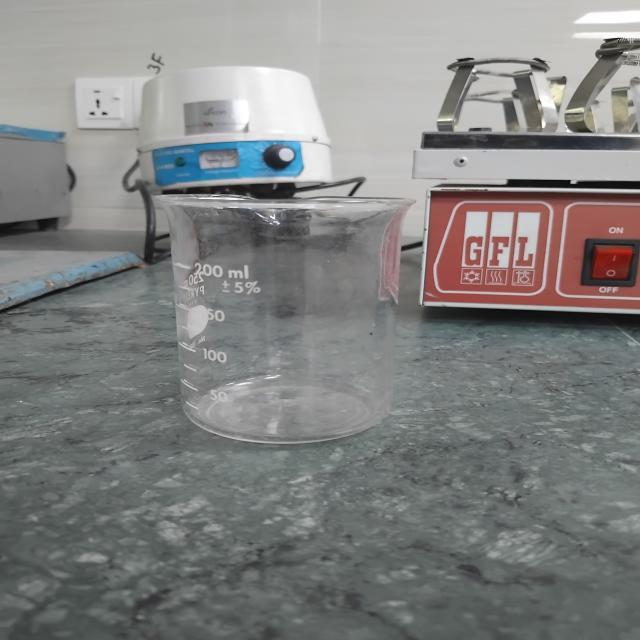Beaker: (99, 150, 458, 474)
